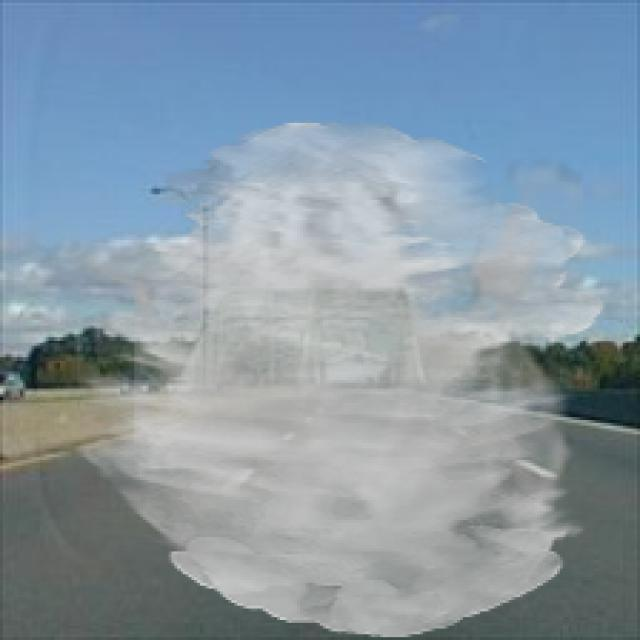Smoke: (71, 120, 606, 637)
